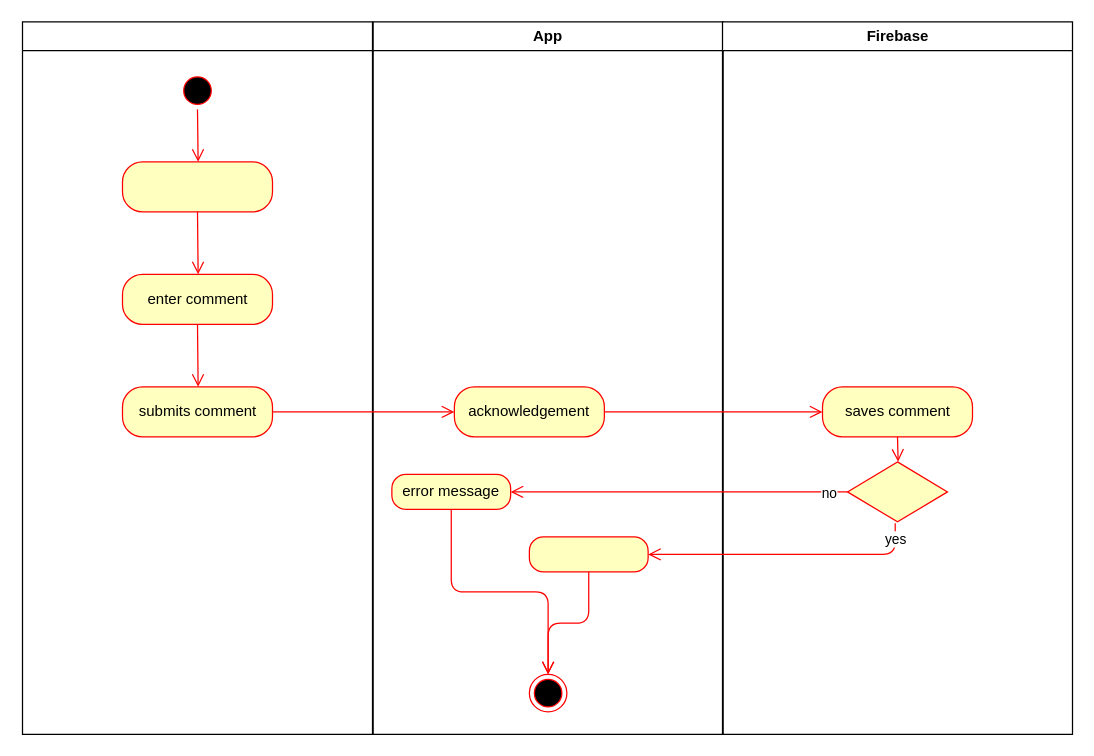
This 1094x756 diagram has some shape labels left out. Each missing label, with the box of its shape:
opens product page: (121, 161, 272, 212)
success message: (528, 536, 648, 572)
success?: (846, 461, 948, 522)
User: (21, 21, 372, 734)
